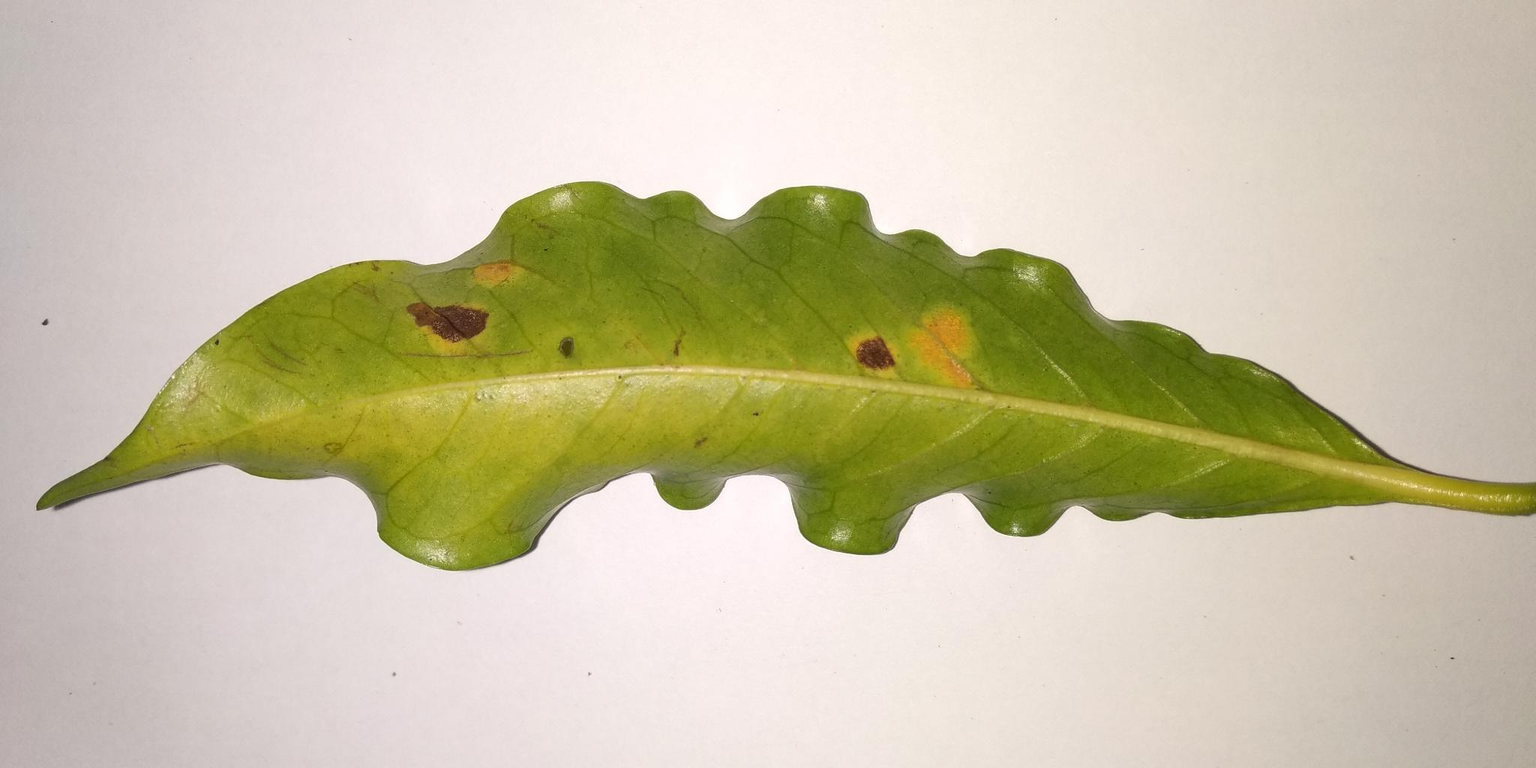Cercospora: (840, 323, 905, 381)
